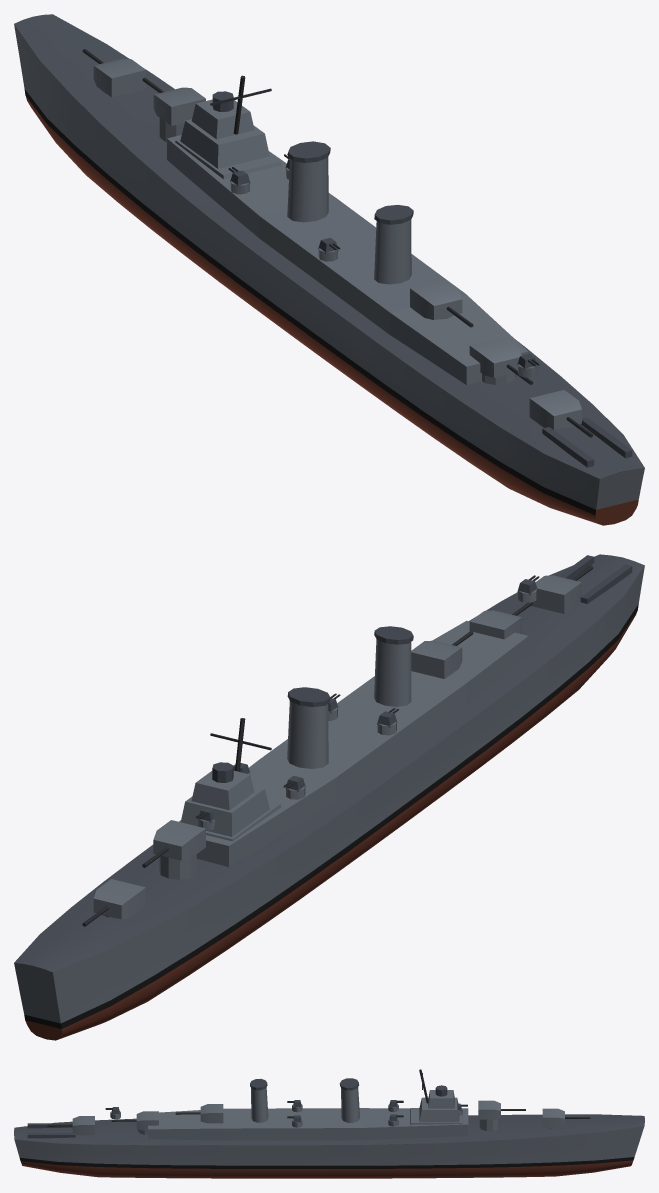
Rendered from destroyer_usn.glb.
3 views of the same model, one above another, from view 1: azimuth 30°, elevation 25°; view 2: azimuth 150°, elevation 25°; view 3: azimuth 270°, elevation 25° (orthographic). The views are drawn at different scales.
Parts seen in each view (by area): view 1: destroyer_usn; view 2: destroyer_usn; view 3: destroyer_usn.
Part boxes in pixels (left/top/right/bottom): destroyer_usn: left=14, top=14, right=644, bottom=525; destroyer_usn: left=14, top=554, right=644, bottom=1040; destroyer_usn: left=14, top=1069, right=644, bottom=1178.
Size of the model in its own units: 12.72 by 21.25 by 118.
